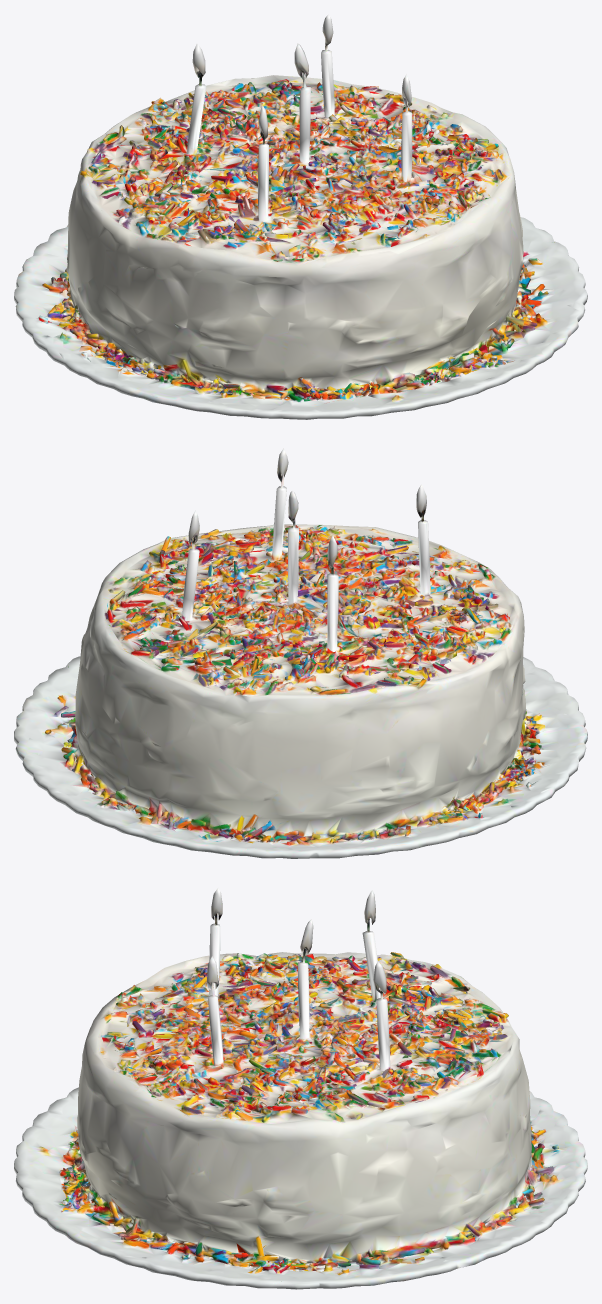
The model's file is cake-mobile.glb.
The picture shows the model from 3 angles, top to bottom: view 1: azimuth 30°, elevation 25°; view 2: azimuth 150°, elevation 25°; view 3: azimuth 270°, elevation 25°; orthographic projection.
Visible parts, largest first — view 1: Mesh_0; view 2: Mesh_0; view 3: Mesh_0.
Boxes of the visible parts, box(x1,y1,x2,y2) form: Mesh_0: box(14, 14, 587, 419); Mesh_0: box(14, 448, 587, 858); Mesh_0: box(14, 887, 587, 1289).
Bounding box in the file's own units: 1.9 × 0.9719 × 1.9.
1 material, 1 textured.
